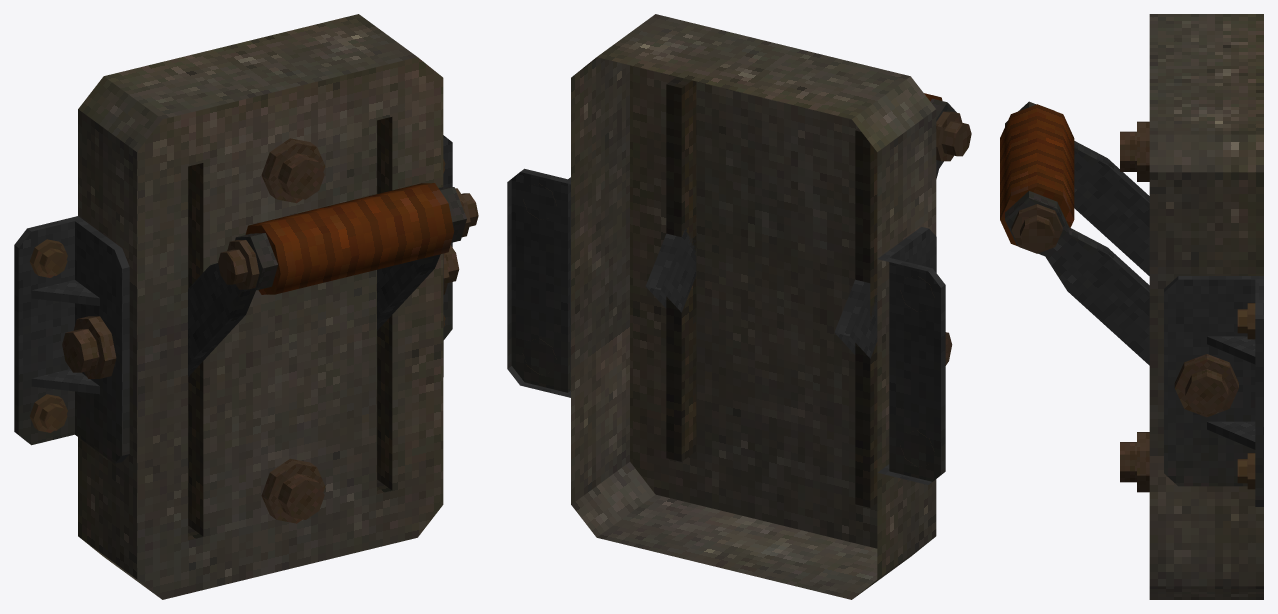
Rendered from lever_etx_2.glb.
3 views of the same model, side by side, from view 1: azimuth 30°, elevation 25°; view 2: azimuth 150°, elevation 25°; view 3: azimuth 270°, elevation 25° (orthographic). The views are drawn at different scales.
Parts seen in each view (by area): view 1: lever_etx_2, lever_etx_2_child; view 2: lever_etx_2, lever_etx_2_child; view 3: lever_etx_2, lever_etx_2_child.
Part boxes in pixels (box(x1,y1,x2,y2)): lever_etx_2: box(14, 14, 459, 599); lever_etx_2_child: box(188, 183, 478, 376); lever_etx_2: box(507, 14, 952, 599); lever_etx_2_child: box(645, 93, 971, 358); lever_etx_2: box(1120, 14, 1263, 599); lever_etx_2_child: box(1000, 101, 1149, 365).
Size of the model in its own units: 0.306 by 0.324 by 0.1665.
Materials: 1 (1 with a texture image).
